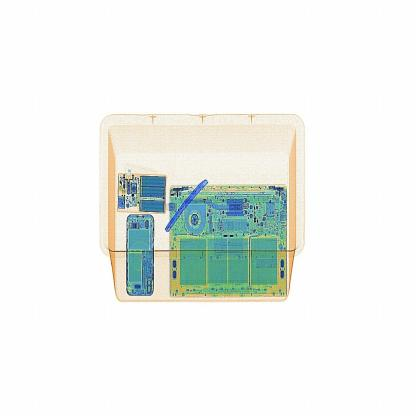pliers: (163, 174, 211, 238)
